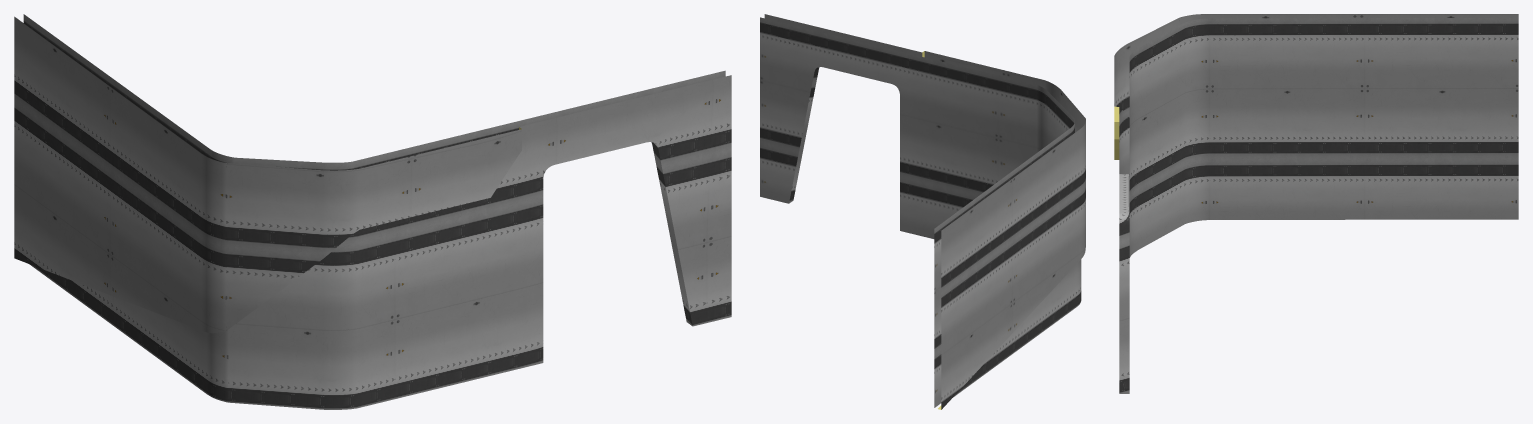
File: EC_Wall_360Room.FBX
3 renders of one model, left to right at view 1: azimuth 30°, elevation 25°; view 2: azimuth 150°, elevation 25°; view 3: azimuth 270°, elevation 25°, orthographic. The views are drawn at different scales.
Visible parts, largest first — view 1: EC_Wall_360Room; view 2: EC_Wall_360Room; view 3: EC_Wall_360Room.
Part boxes in pixels (x1=…): EC_Wall_360Room: x1=14, y1=14, x2=731, y2=409; EC_Wall_360Room: x1=760, y1=14, x2=1085, y2=409; EC_Wall_360Room: x1=1114, y1=14, x2=1518, y2=393.
Bounding box in the file's own units: 8424 × 4075 × 7403.
